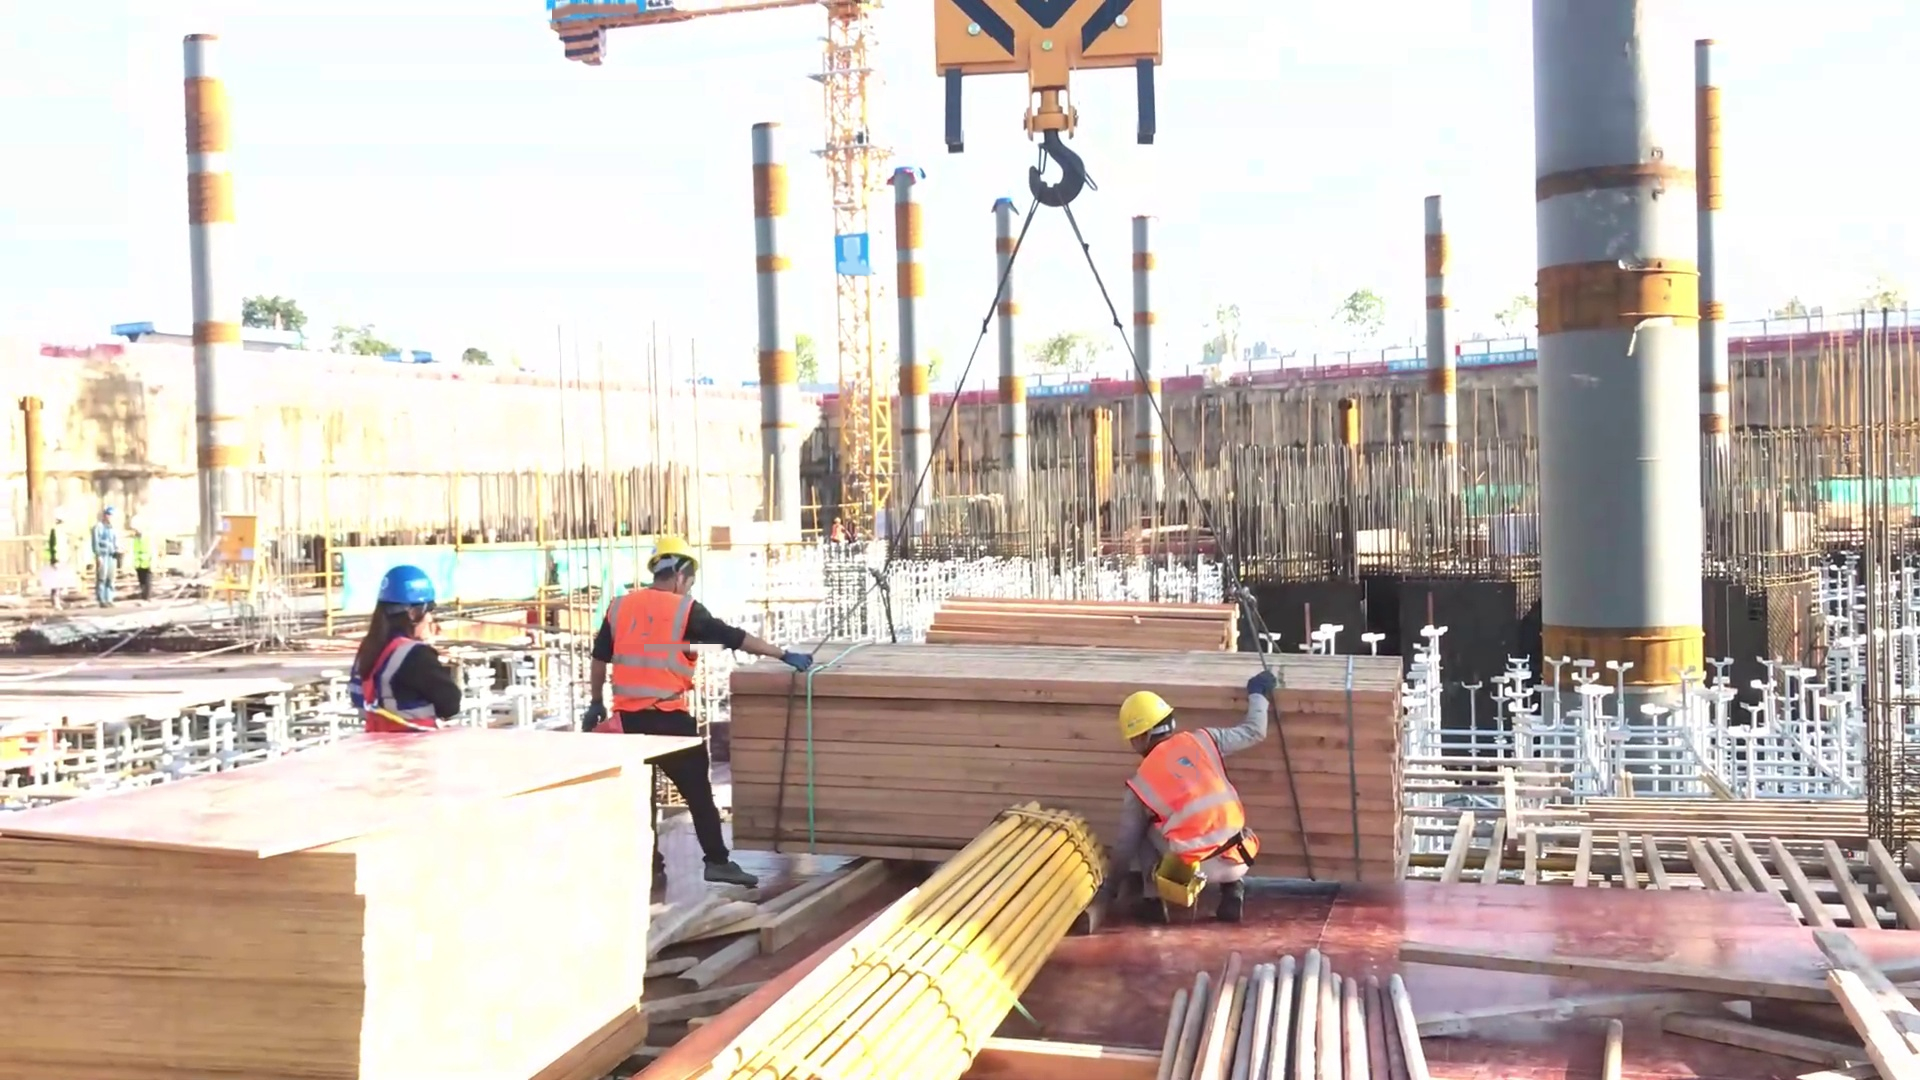helmet: (1102, 683, 1181, 747), (365, 558, 461, 607), (628, 520, 708, 568)
person: (348, 557, 467, 729), (94, 506, 133, 600)
vest: (1117, 718, 1266, 874), (600, 585, 708, 718), (344, 623, 454, 734), (92, 523, 121, 564)
